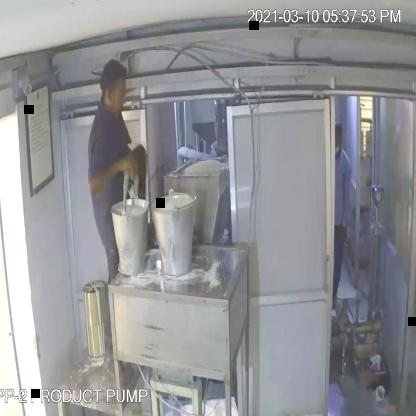no_glove: (82, 146, 134, 196)
